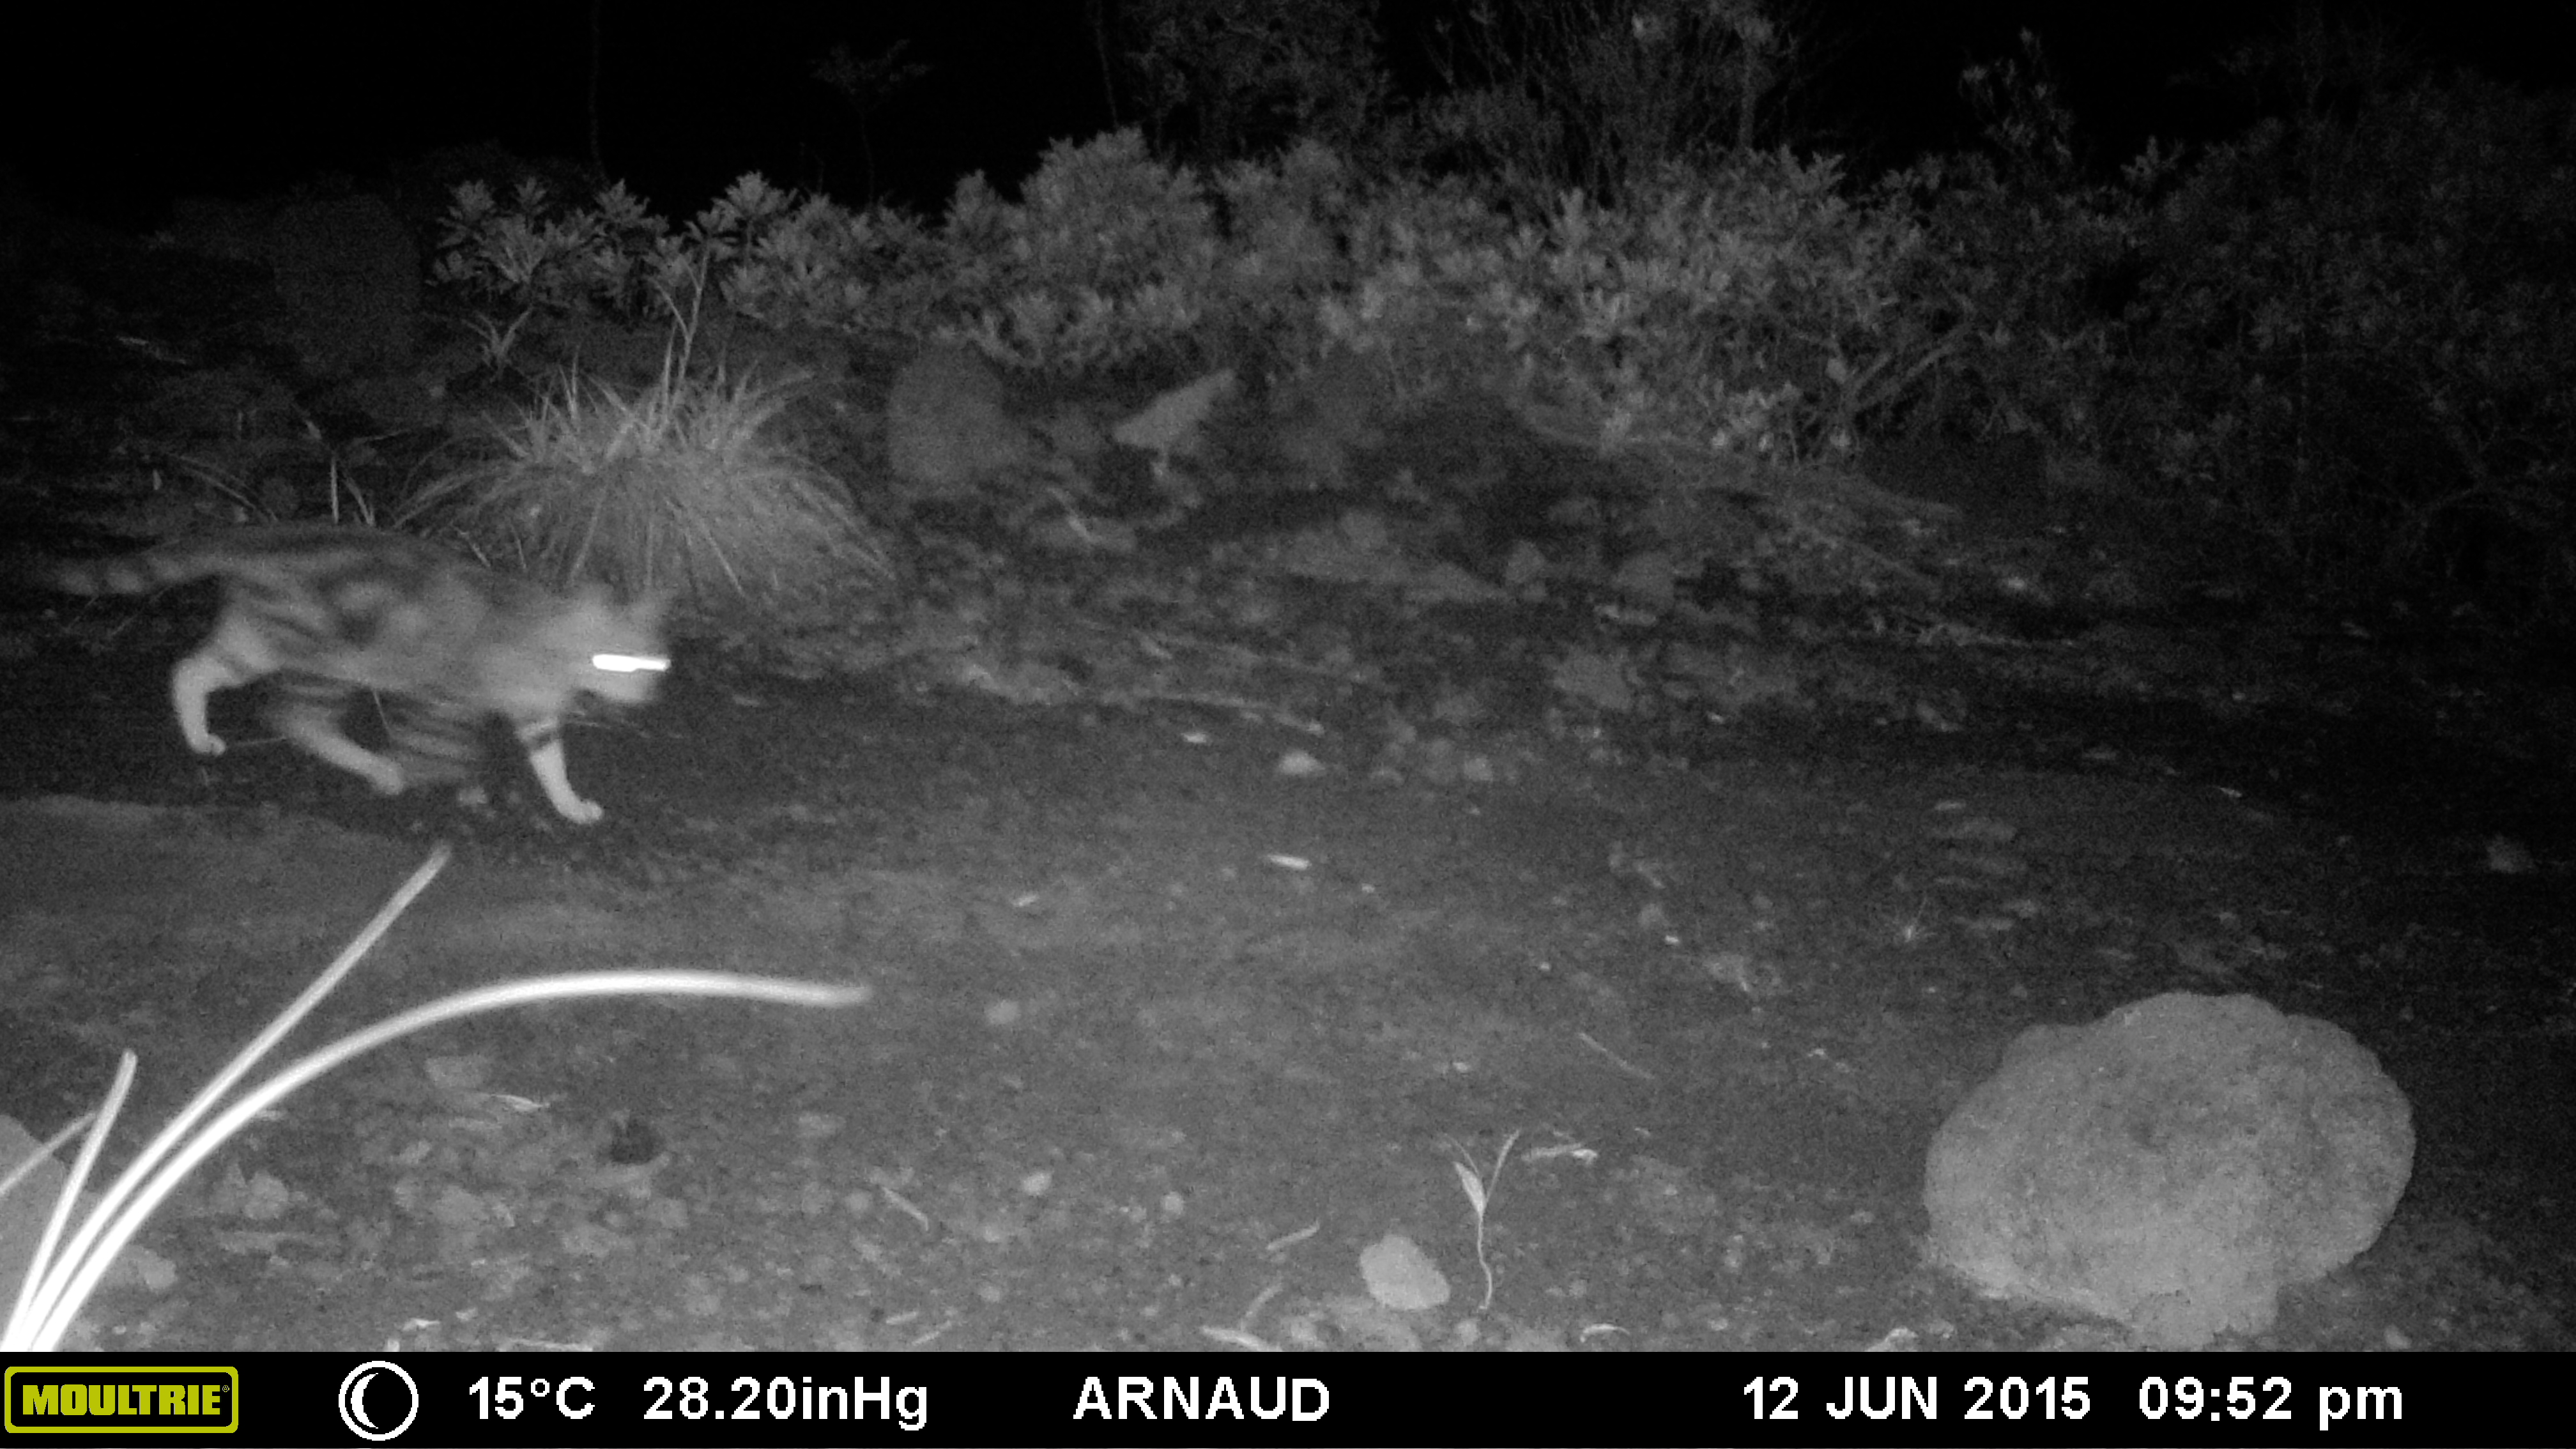cat: (51, 513, 672, 835)
